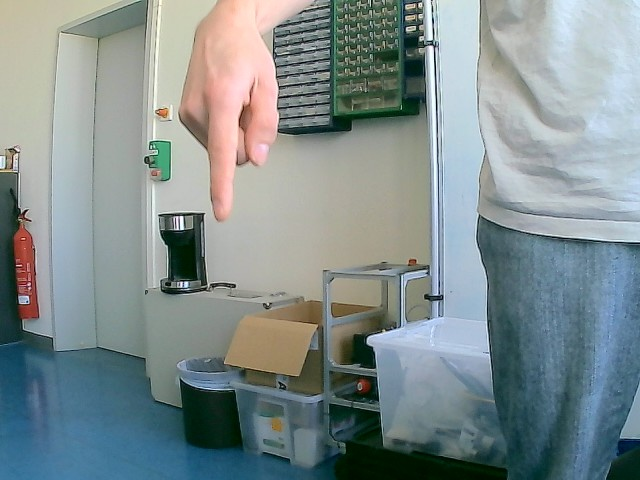down: (177, 7, 281, 222)
